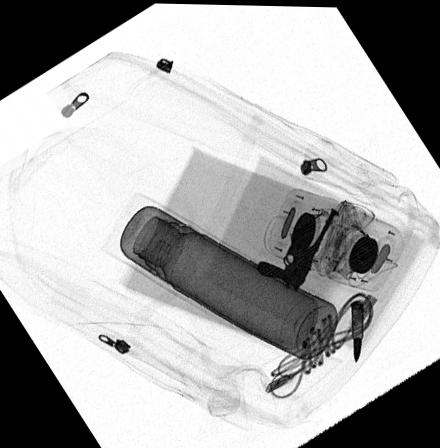Bullet: (351, 299, 363, 358)
Gun: (257, 206, 340, 288)
